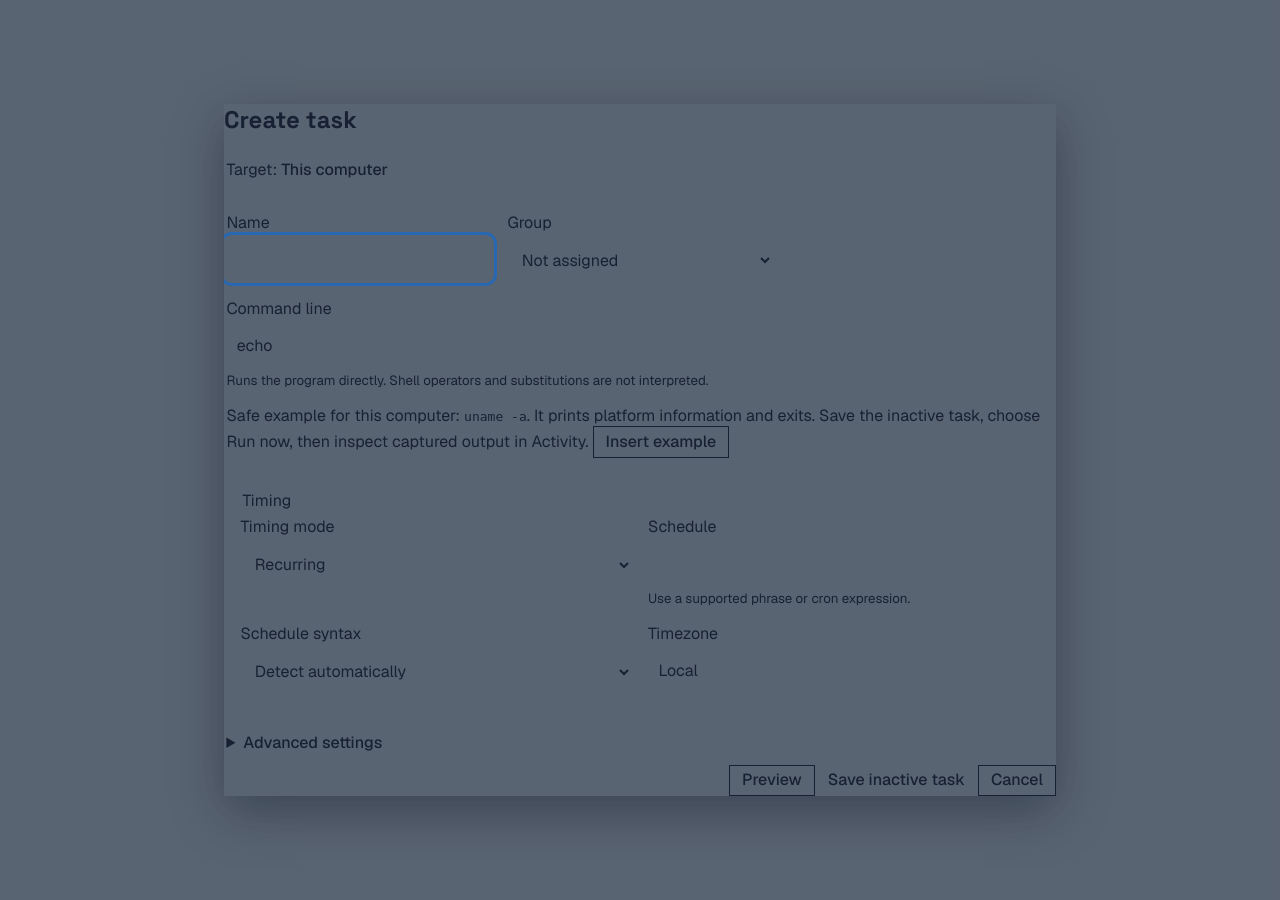
it: task editor › retains the draft after an uncertain remote save
Type "Remote draft" into the field labelled "Name" at (359, 259), box [226,238,492,280]
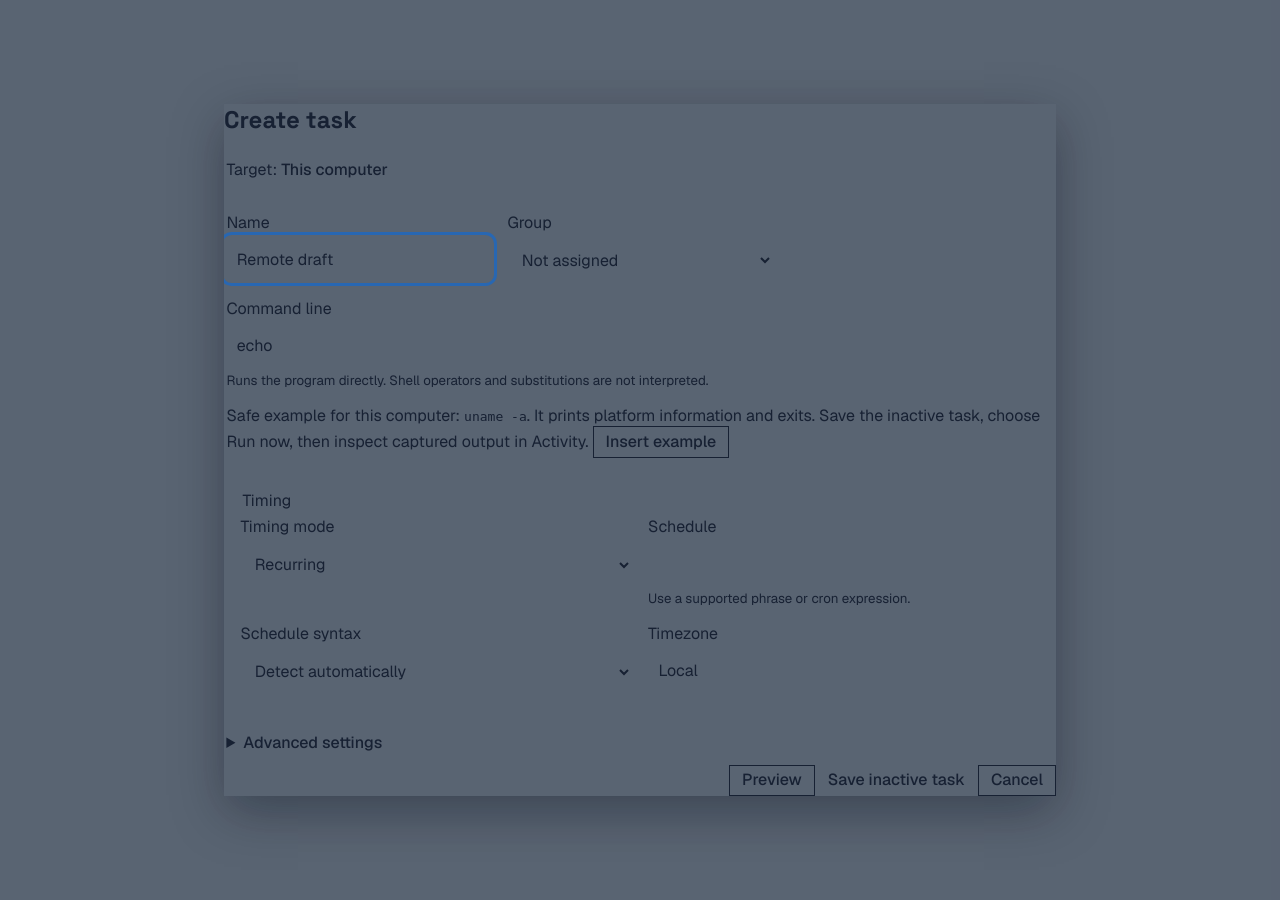
Click the button "Save inactive task" at (896, 780), box [815,765,978,796]
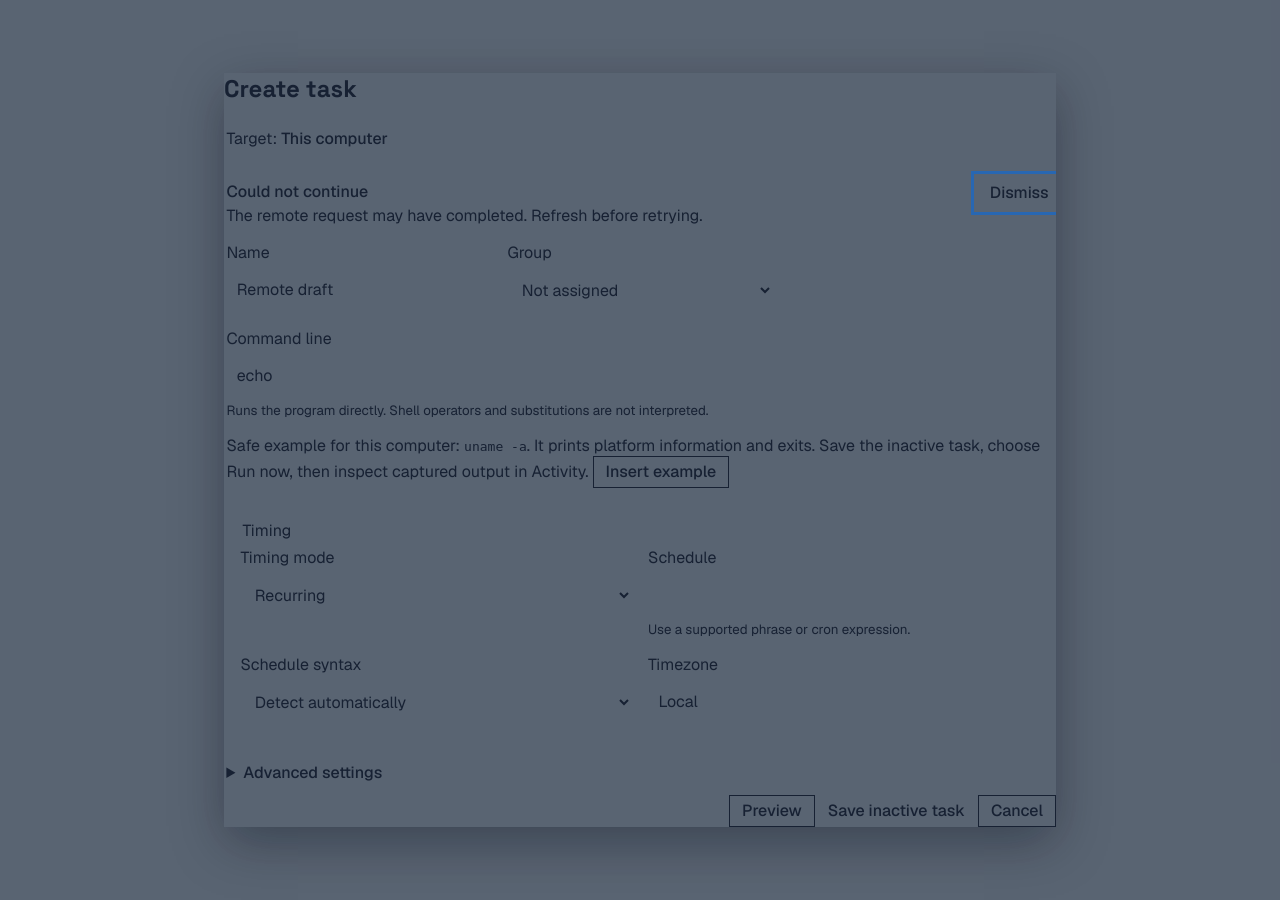
Now the text "The remote request may have completed. Refresh before retrying." is shown, box [226,205,703,226]
